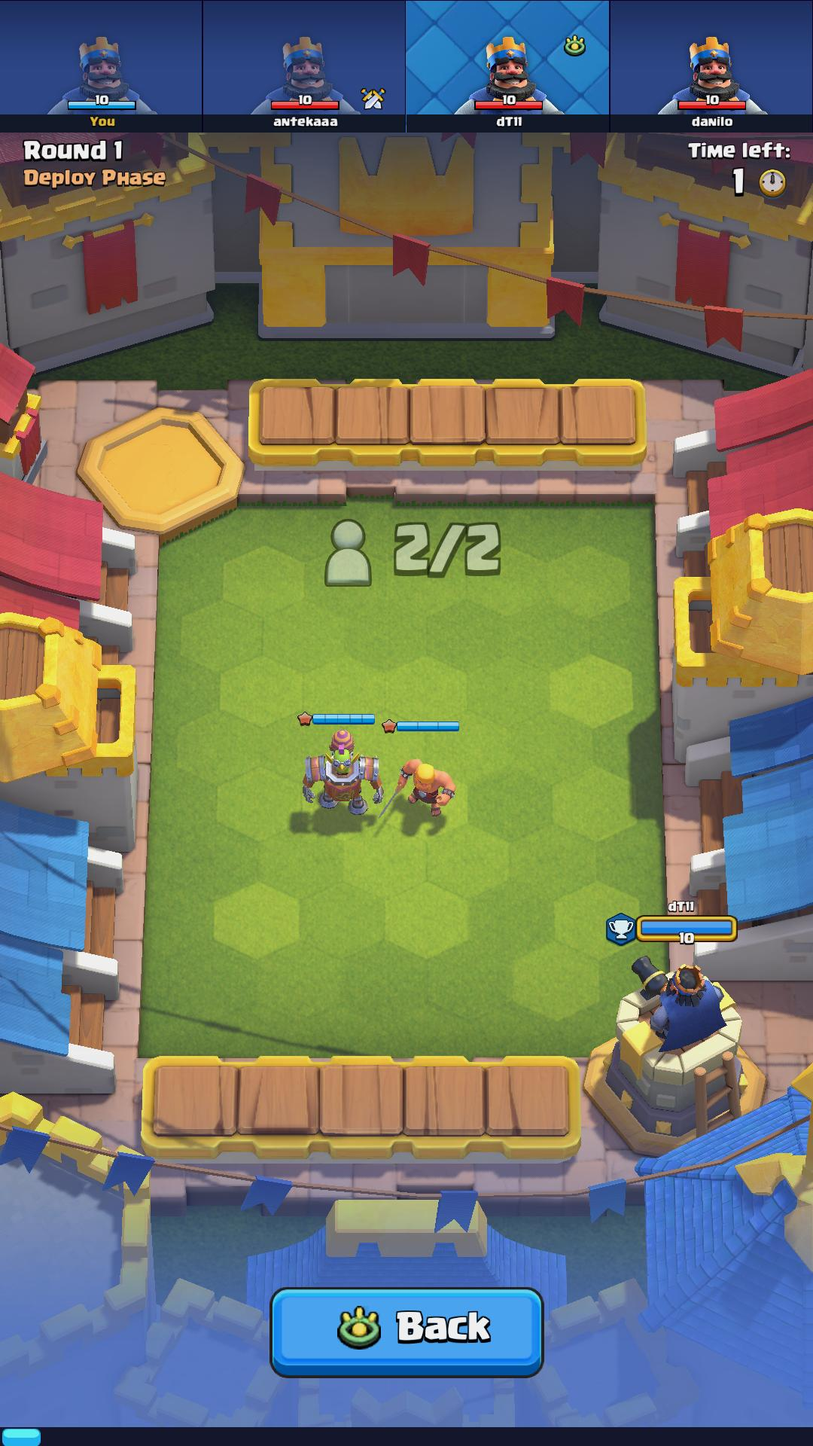barbarian: (384, 752, 461, 820)
machine: (294, 726, 384, 818)
